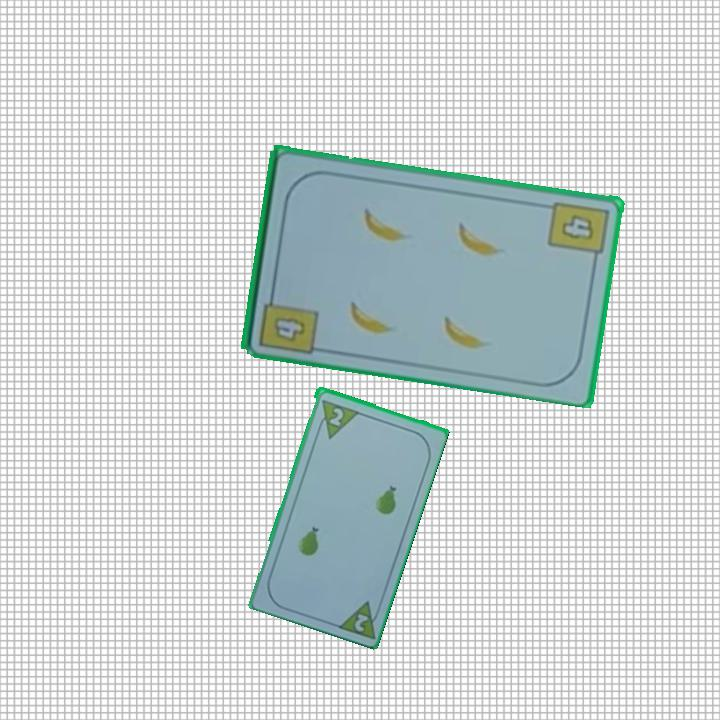2p: (332, 596, 384, 641), (312, 396, 360, 441)
4b: (255, 285, 321, 356), (544, 197, 611, 266)
